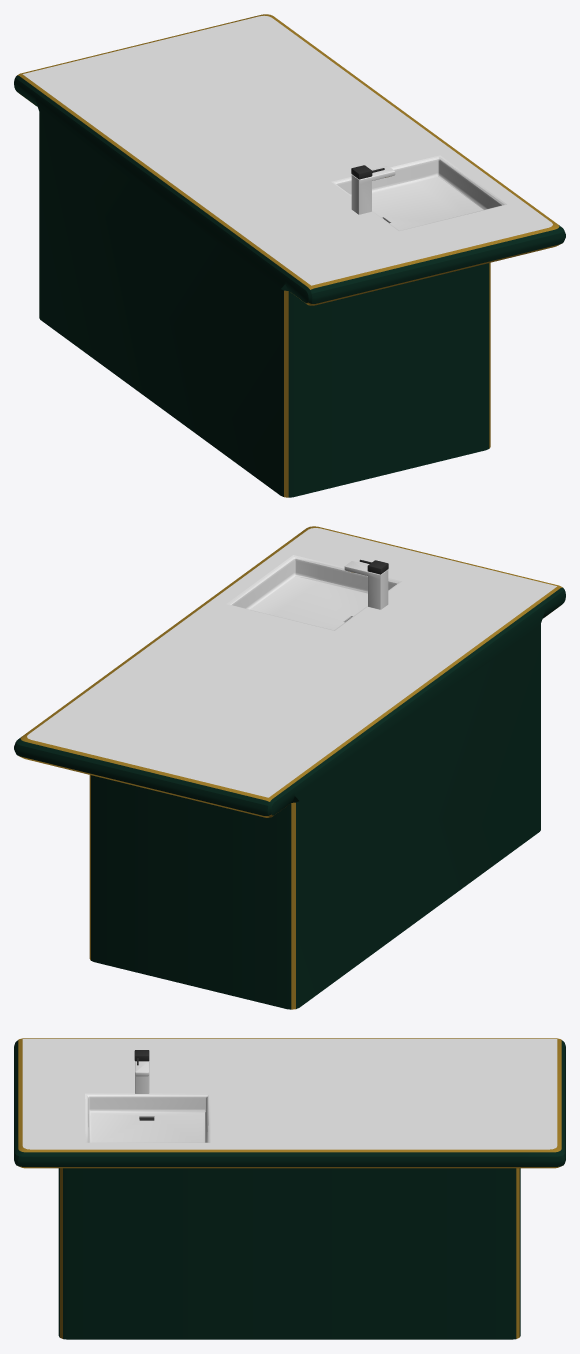
File: GrandPlanTravail_ProjetVR.fbx
3 views of the same model, one above another, from view 1: azimuth 30°, elevation 25°; view 2: azimuth 150°, elevation 25°; view 3: azimuth 270°, elevation 25° (orthographic). The views are drawn at different scales.
Visible parts, largest first — view 1: robinet; view 2: robinet; view 3: robinet.
Boxes of the visible parts, x1=… form: robinet: x1=14, y1=14, x2=565, y2=497; robinet: x1=14, y1=526, x2=565, y2=1009; robinet: x1=14, y1=1038, x2=565, y2=1339.
Bounding box in the file's own units: 120 × 118 × 239.
